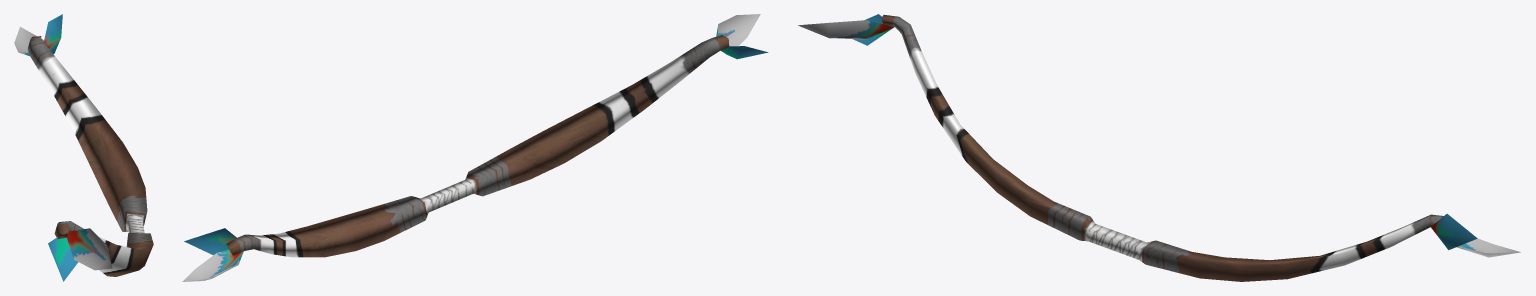
Rendered from rangedweapon-flintweapons.glb.
3 renders of one model, left to right at view 1: azimuth 30°, elevation 25°; view 2: azimuth 150°, elevation 25°; view 3: azimuth 270°, elevation 25°, orthographic. The views are drawn at different scales.
Bounding box in the file's own units: 0.8813 × 0.4197 × 1.73.
Materials: 1 (1 with a texture image).
